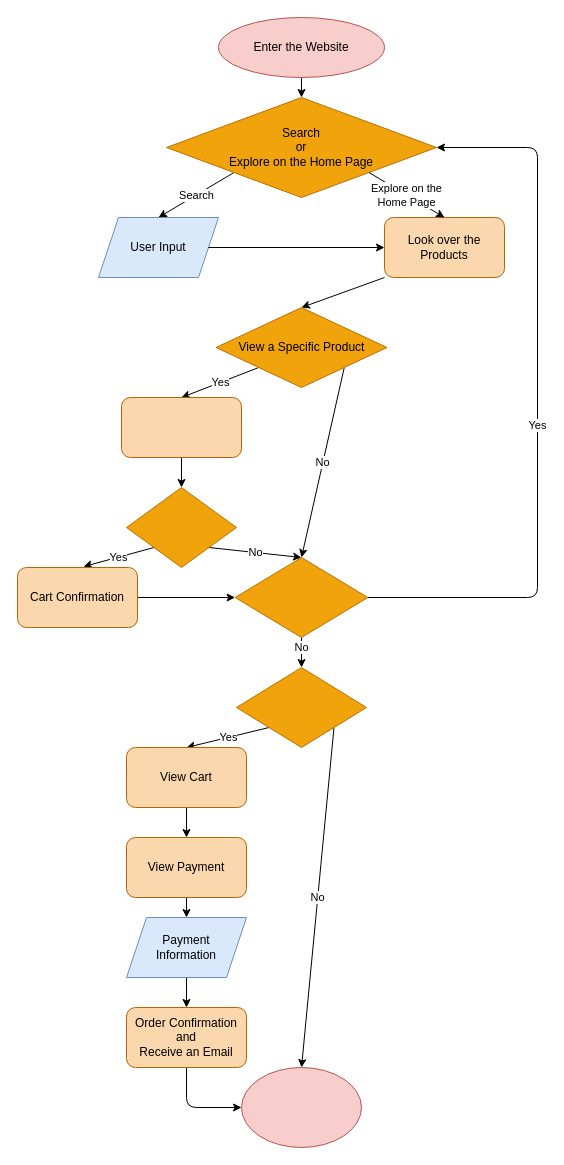
Image size: 564x1165. Some labels were removed from this diagram. Here are the shapes that lost their labels. From the top down, the box of each, then its label:
(120, 396, 242, 458): Open the Prodcut Page
(126, 486, 236, 568): Add to Cart
(234, 556, 368, 638): Continue Shopping
(236, 666, 366, 748): Checkout
(240, 1066, 362, 1148): Leave the Website
